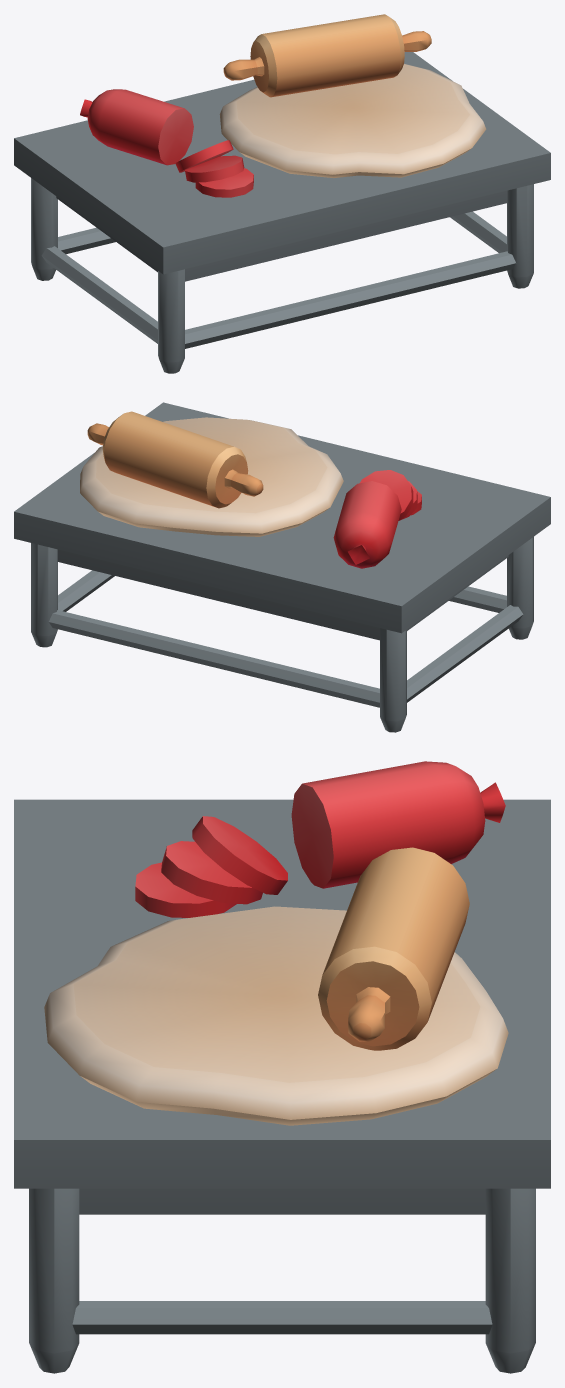
Rendered from kitchentable_A_large_decorated_B.obj.
The picture shows the model from 3 angles, top to bottom: view 1: azimuth 30°, elevation 25°; view 2: azimuth 150°, elevation 25°; view 3: azimuth 270°, elevation 25°; orthographic projection. The views are drawn at different scales.
Visible parts, largest first — view 1: kitchentable_A_large_decorated_B_Cube.467; view 2: kitchentable_A_large_decorated_B_Cube.467; view 3: kitchentable_A_large_decorated_B_Cube.467.
Part boxes in pixels (<box>): kitchentable_A_large_decorated_B_Cube.467: <box>14,14,550,373</box>; kitchentable_A_large_decorated_B_Cube.467: <box>14,402,550,732</box>; kitchentable_A_large_decorated_B_Cube.467: <box>14,761,550,1373</box>.
Size of the model in its own units: 3 by 1.58 by 2.
Materials: 1 (1 with a texture image).
